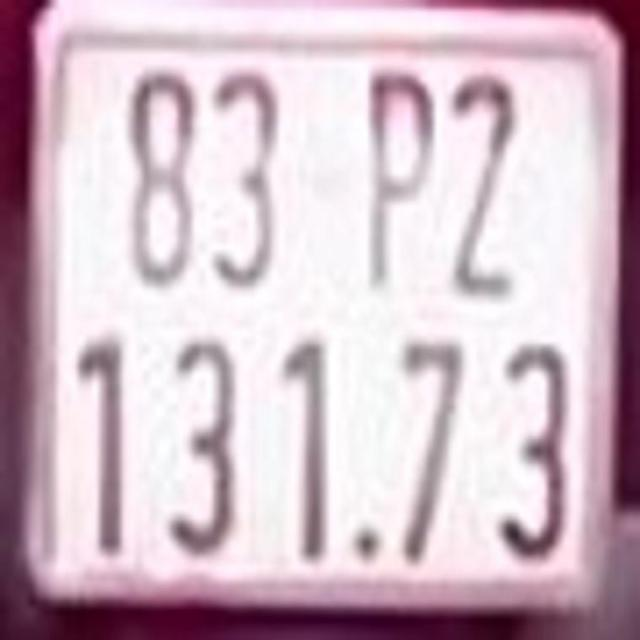1: (76, 327, 120, 548), (285, 335, 326, 556)
2: (451, 66, 519, 298)
3: (213, 71, 283, 284), (175, 335, 236, 555), (504, 344, 564, 550)
7: (400, 339, 464, 559)
8: (127, 70, 202, 278)
P: (366, 69, 438, 296)
